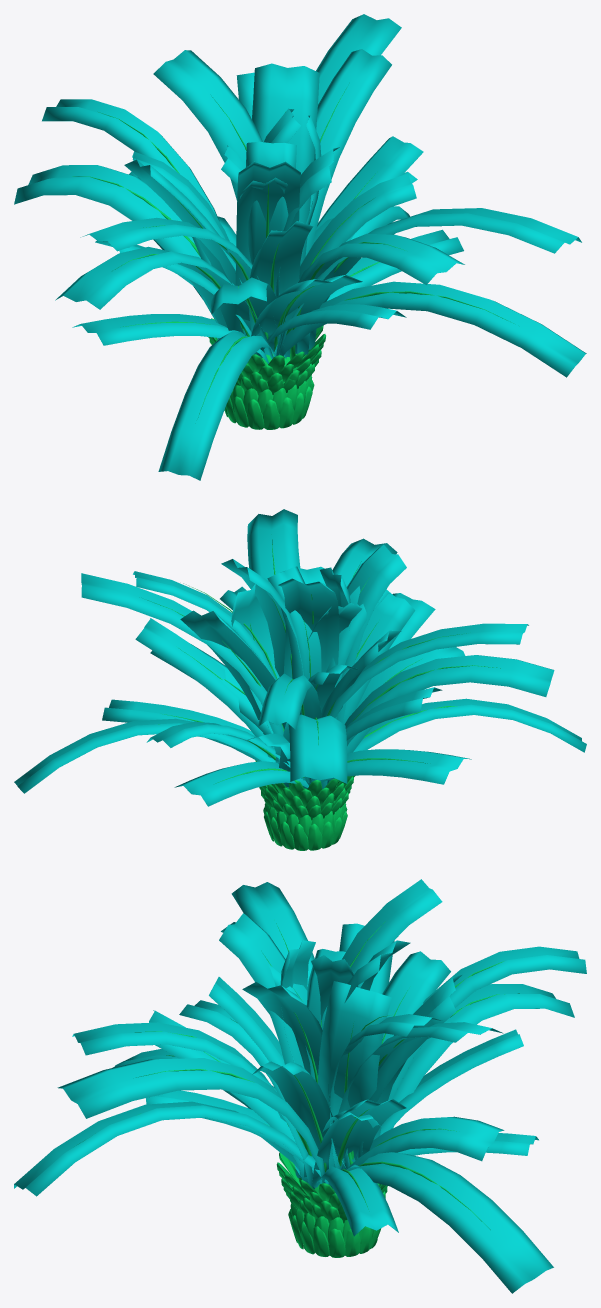
Rendered from palm_2.fbx.
The picture shows the model from 3 angles, top to bottom: view 1: azimuth 30°, elevation 25°; view 2: azimuth 150°, elevation 25°; view 3: azimuth 270°, elevation 25°; orthographic projection. The views are drawn at different scales.
Parts seen in each view (by area): view 1: Palm_2; view 2: Palm_2; view 3: Palm_2.
Part boxes in pixels (box(x1,y1,x2,y2)): Palm_2: box(14, 14, 586, 480); Palm_2: box(14, 509, 586, 850); Palm_2: box(14, 879, 586, 1293).
Size of the model in its own units: 700 by 468 by 722.
